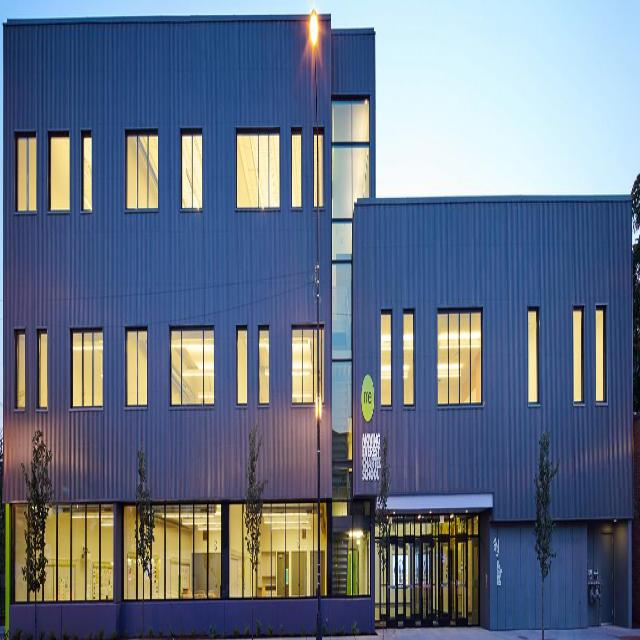door: (386, 534, 468, 631)
window: (332, 100, 370, 596), (14, 504, 112, 601), (230, 501, 326, 598), (124, 501, 220, 596), (437, 308, 483, 408), (171, 325, 213, 407), (236, 134, 279, 210), (125, 136, 157, 211), (71, 329, 101, 404), (293, 325, 323, 399), (16, 135, 36, 212), (49, 136, 69, 211), (181, 139, 202, 205), (126, 332, 146, 399), (572, 298, 583, 398), (381, 310, 392, 409), (594, 307, 605, 406), (528, 307, 538, 405), (404, 309, 414, 406), (82, 134, 92, 214), (237, 328, 247, 407), (15, 332, 25, 407), (38, 335, 48, 409), (293, 131, 302, 210), (259, 330, 268, 404), (315, 133, 324, 207)
